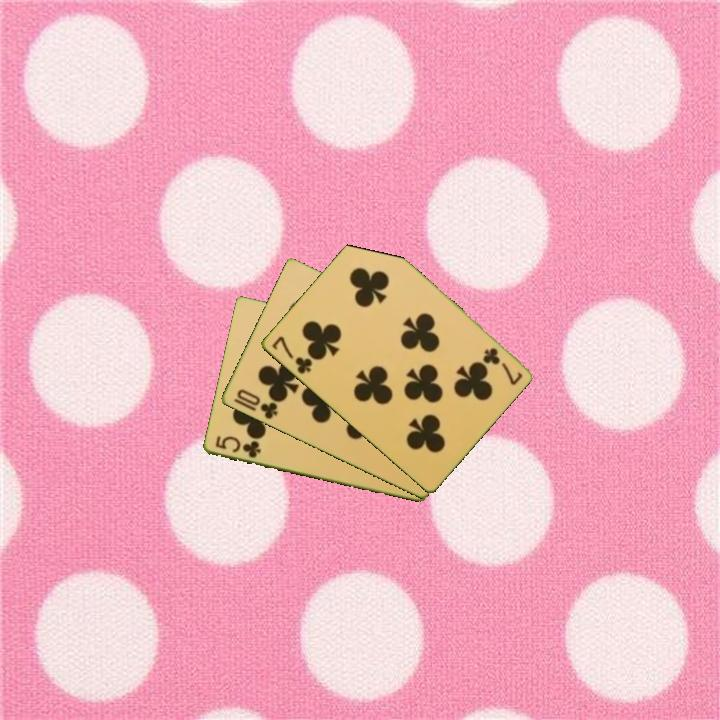10c: (233, 385, 280, 422)
5c: (211, 433, 263, 461)
7c: (268, 332, 315, 377), (479, 344, 525, 388)
